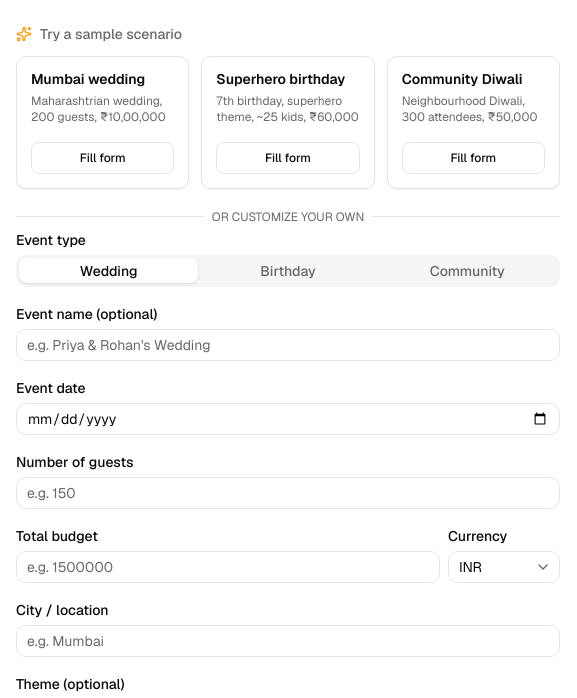
Test: IntakeForm — render and type switching › switching to birthday changes the traditions label
The image size is (577, 698).
Click the tab "birthday": (288, 270) [198,258,378,283]
(page scrolled)
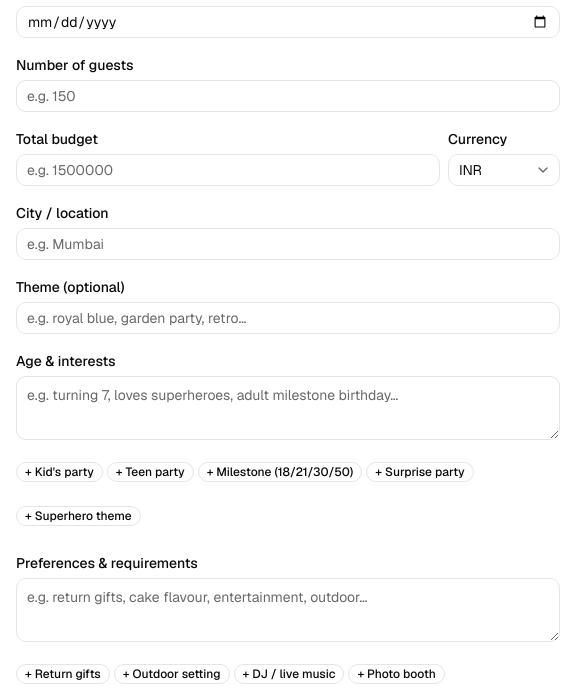
Check: the text "Age & interests" is shown, box [16,352,116,370]
